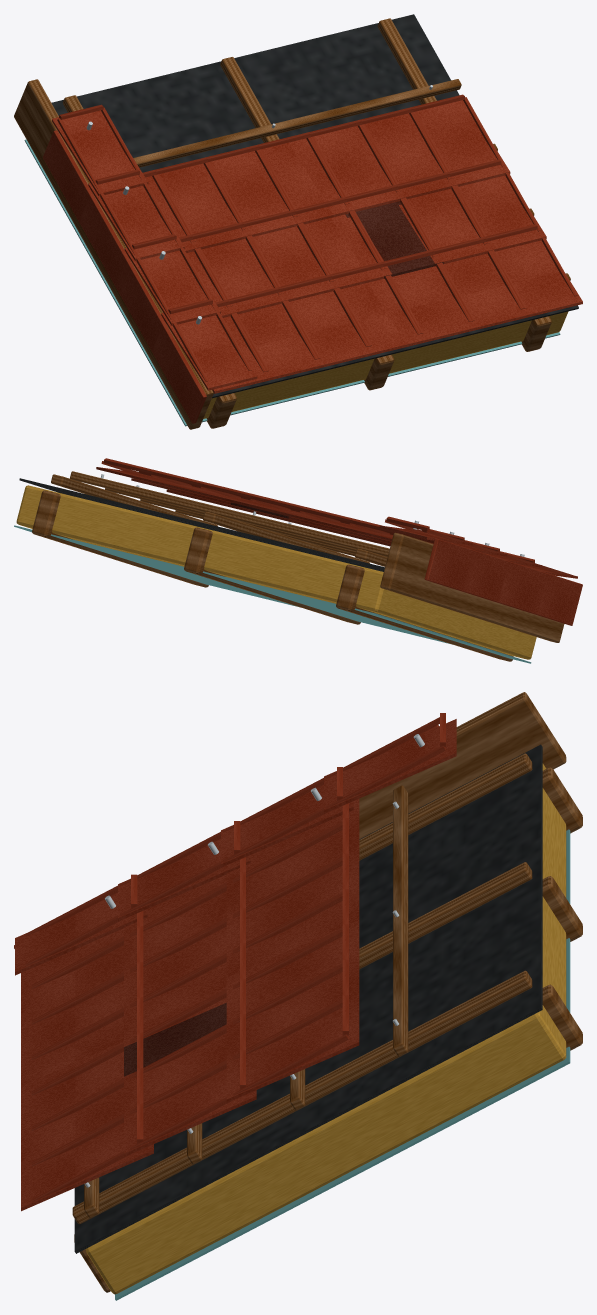
Rendered from modell.glb.
The picture shows the model from 3 angles, top to bottom: view 1: azimuth 30°, elevation 25°; view 2: azimuth 150°, elevation 25°; view 3: azimuth 270°, elevation 25°; orthographic projection. The views are drawn at different scales.
Visible parts, largest first — view 1: s04-deckziegel_deckung, s04-zusatzebene_zusatzebene, s04-randziegel_deckung, s04-abschluss_deckung, s04-lattung_lattung, s04-daemmung_daemmung, s04-abschluss_tragwerk, s04-deckziegel_deckung.001, s04-sparren_tragwerk, s04-luftdichtheit_luftdichtheit; view 2: s04-daemmung_daemmung, s04-abschluss_deckung, s04-lattung_lattung, s04-abschluss_tragwerk, s04-deckziegel_deckung, s04-sparren_tragwerk, s04-luftdichtheit_luftdichtheit, s04-zusatzebene_zusatzebene, s04-randziegel_deckung; view 3: s04-deckziegel_deckung, s04-zusatzebene_zusatzebene, s04-daemmung_daemmung, s04-lattung_lattung, s04-randziegel_deckung, s04-abschluss_tragwerk, s04-luftdichtheit_luftdichtheit, s04-sparren_tragwerk, s04-deckziegel_deckung.001.
Boxes of the visible parts, x1,y1,x2,y2 form: s04-deckziegel_deckung: [142, 94, 582, 393]; s04-zusatzebene_zusatzebene: [51, 14, 578, 398]; s04-randziegel_deckung: [52, 104, 257, 390]; s04-abschluss_deckung: [43, 130, 206, 423]; s04-lattung_lattung: [62, 18, 570, 280]; s04-daemmung_daemmung: [203, 311, 568, 418]; s04-abschluss_tragwerk: [14, 79, 213, 429]; s04-deckziegel_deckung.001: [345, 201, 443, 278]; s04-sparren_tragwerk: [206, 316, 551, 428]; s04-luftdichtheit_luftdichtheit: [24, 139, 560, 426]; s04-daemmung_daemmung: [16, 485, 536, 659]; s04-abschluss_deckung: [424, 538, 582, 625]; s04-lattung_lattung: [51, 471, 389, 566]; s04-abschluss_tragwerk: [380, 532, 564, 642]; s04-deckziegel_deckung: [96, 458, 523, 565]; s04-sparren_tragwerk: [32, 490, 513, 661]; s04-luftdichtheit_luftdichtheit: [14, 525, 531, 663]; s04-zusatzebene_zusatzebene: [19, 478, 384, 571]; s04-randziegel_deckung: [379, 516, 577, 578]; s04-deckziegel_deckung: [21, 799, 359, 1211]; s04-zusatzebene_zusatzebene: [74, 744, 542, 1253]; s04-daemmung_daemmung: [85, 763, 566, 1294]; s04-lattung_lattung: [72, 753, 532, 1224]; s04-randziegel_deckung: [15, 713, 456, 975]; s04-abschluss_tragwerk: [359, 692, 566, 839]; s04-luftdichtheit_luftdichtheit: [115, 829, 570, 1300]; s04-sparren_tragwerk: [74, 767, 582, 1292]; s04-deckziegel_deckung.001: [124, 1002, 226, 1076].
Bounding box in the file's own units: 1.85 × 1.11 × 1.63.
Materials: 7 (5 with a texture image).
